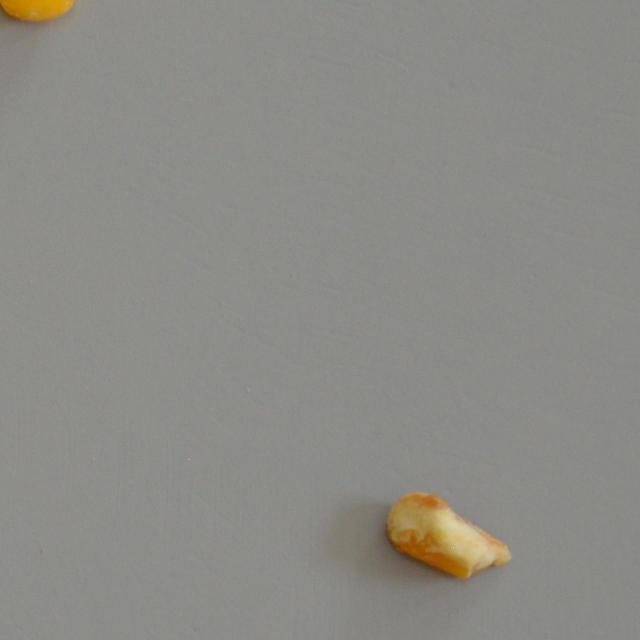dañado: (386, 488, 514, 583), (0, 0, 78, 28)
